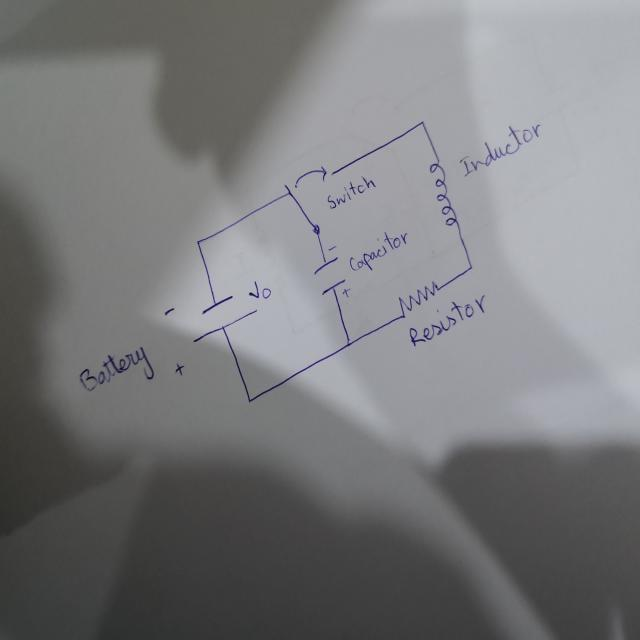capacitor: (310, 243, 352, 299)
inductor: (428, 160, 458, 226)
junction: (340, 329, 356, 354), (241, 387, 257, 409), (464, 259, 477, 276), (193, 235, 205, 251), (416, 116, 427, 131)
resistor: (397, 278, 440, 319)
source: (192, 292, 258, 342)
switch: (283, 157, 333, 236)
text: (458, 121, 547, 178), (407, 290, 486, 349), (73, 342, 156, 393), (348, 229, 408, 272), (326, 174, 377, 210), (248, 281, 272, 299)
